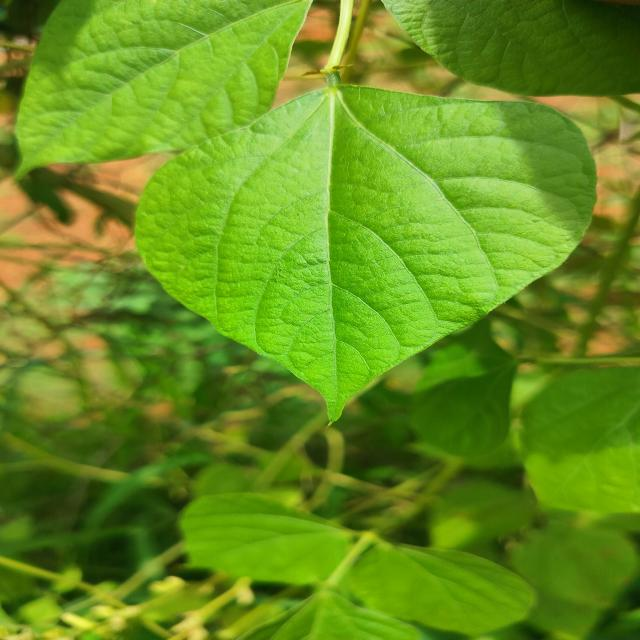Dolicos bean_healthy: (137, 77, 599, 411), (0, 0, 311, 176), (324, 539, 537, 636), (168, 492, 361, 592)
